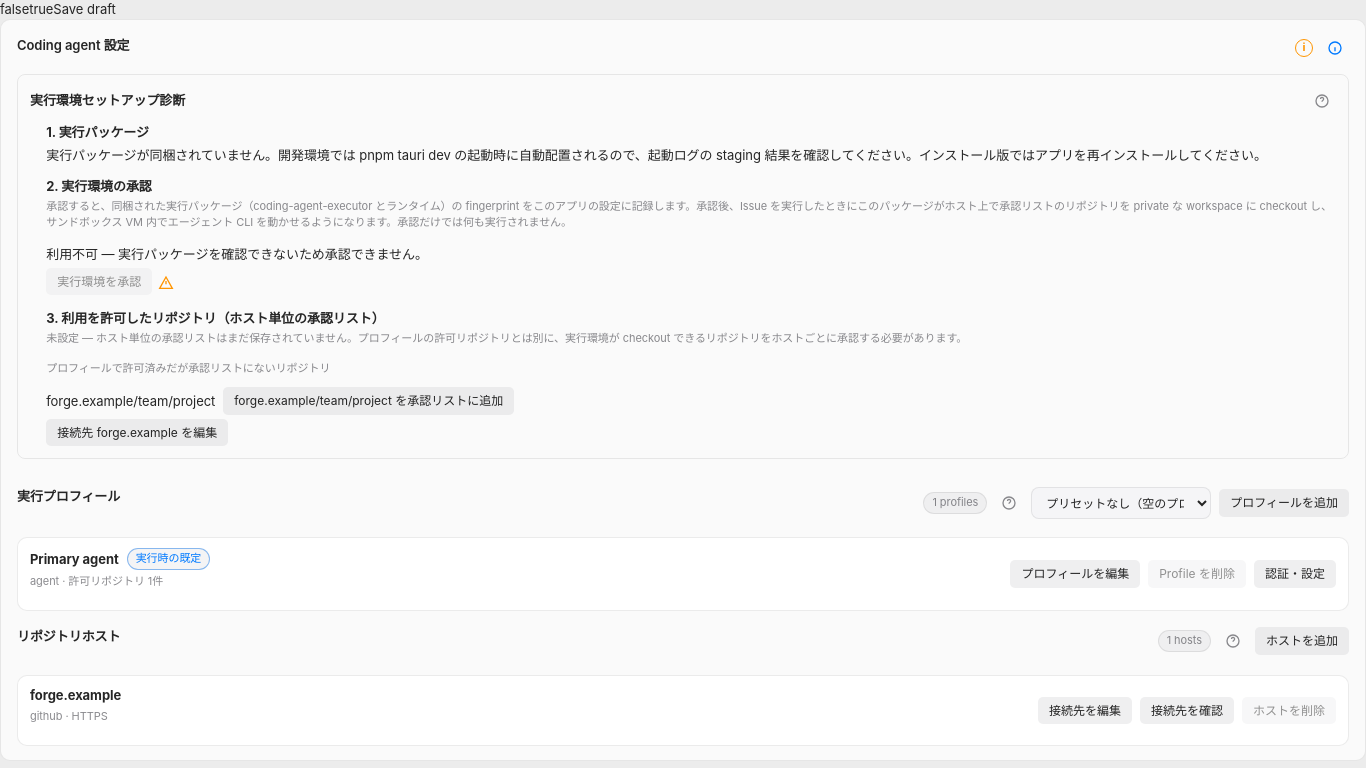
Coding agent settings list and dialogs › keeps profile edits local until the dialog is confirmed
The image size is (1366, 768).
Click the button "プロフィールを編集".
click(1075, 574)  # box [1010,560,1140,588]
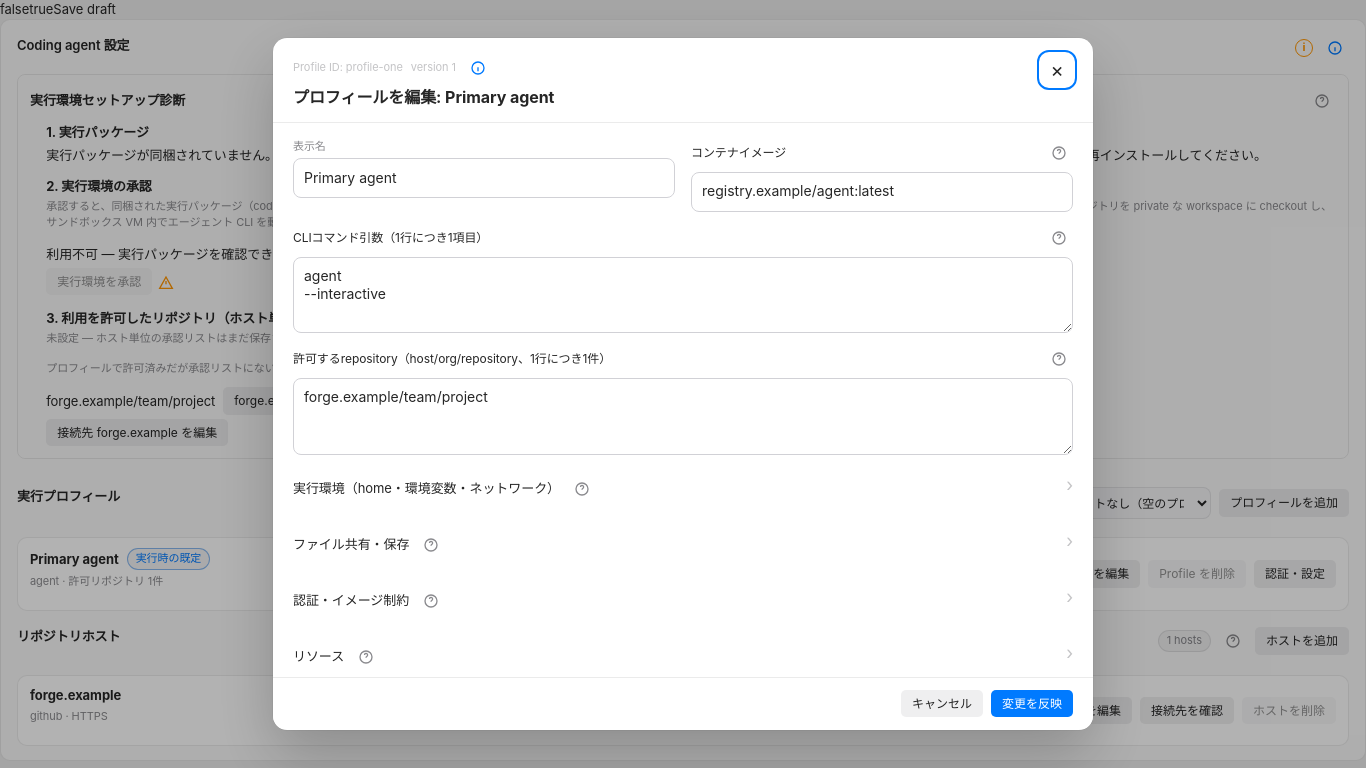
Replace the text in the field labelled "表示名" with "Edited agent" at (484,178), box [293,158,675,198]
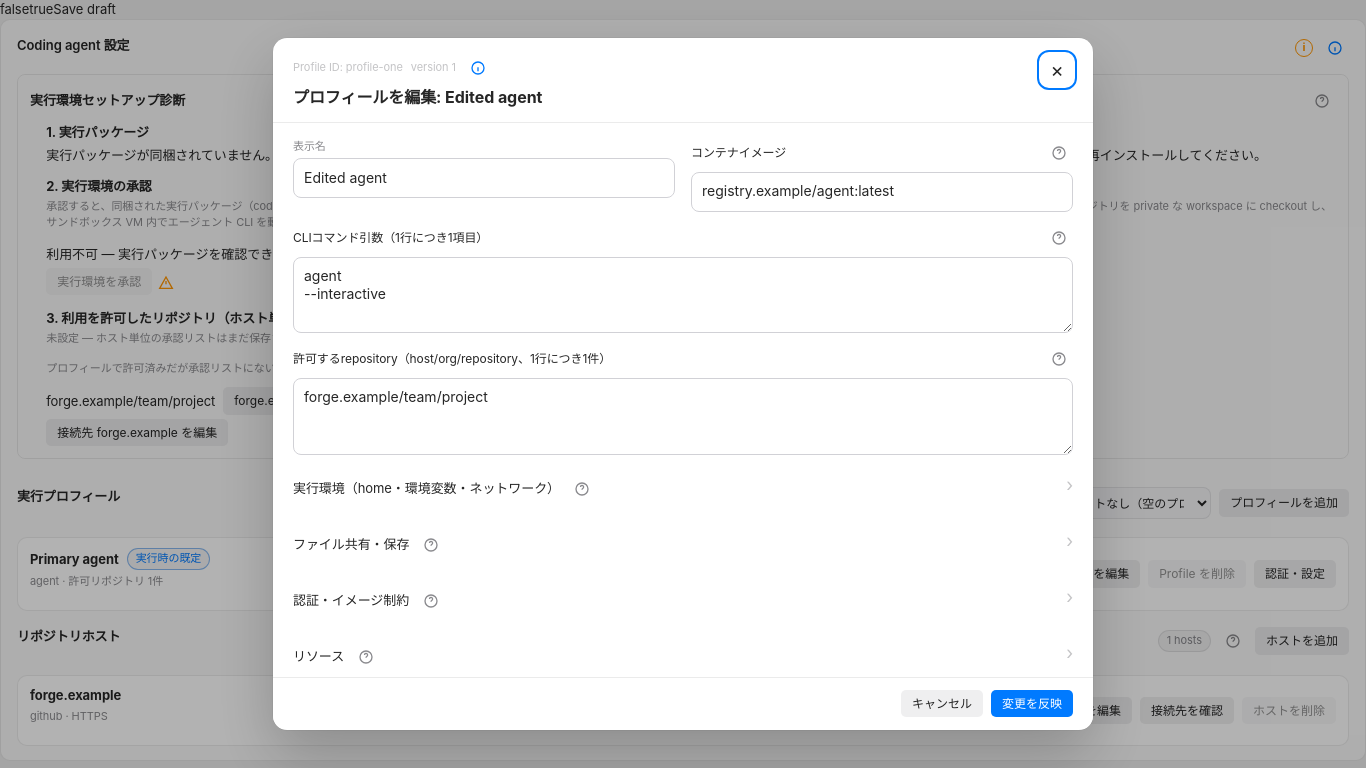
Expected: the text with test id "editor-dirty" reads "false", [0,1,29,17]
Click the button "変更を反映".
click(1032, 704)  # box [991,690,1073,718]
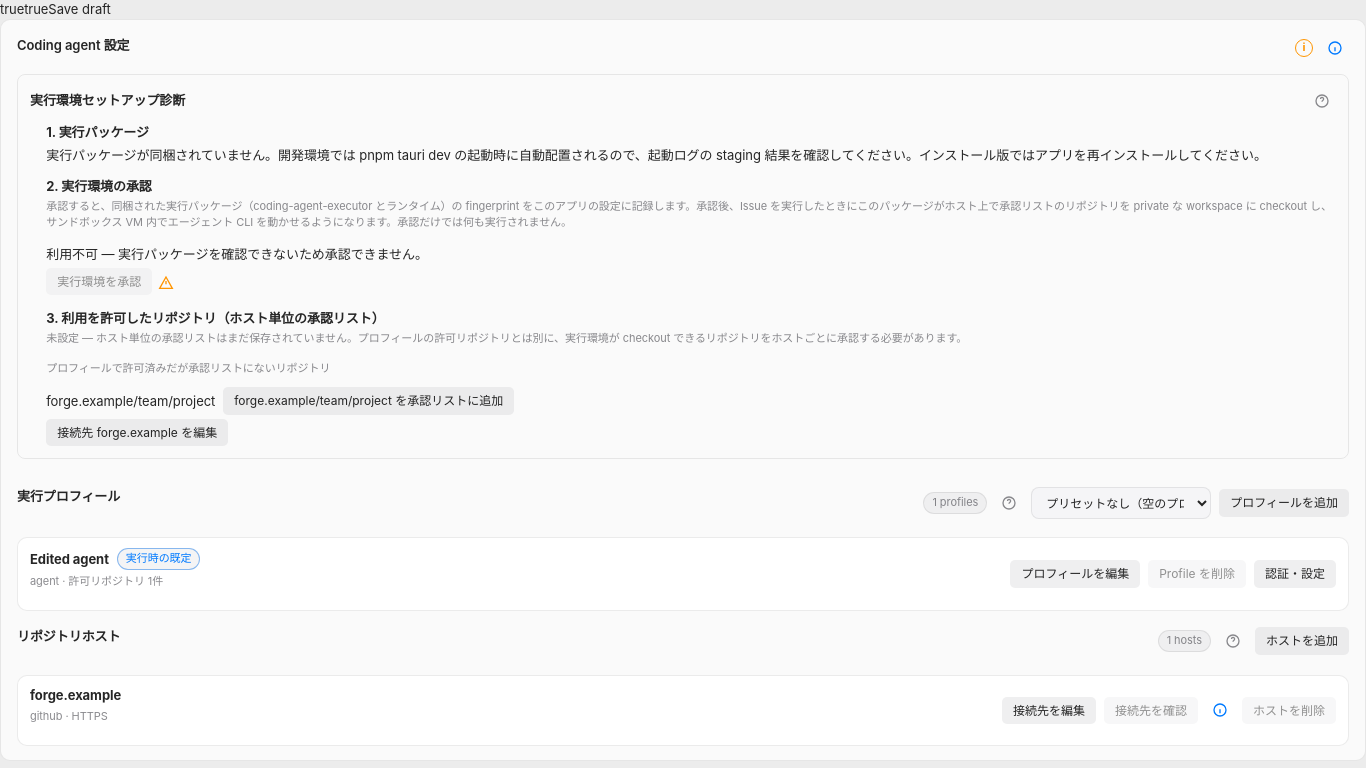
Expected: the text "Edited agent" is shown, [30,550,109,568]
Expected: the text with test id "editor-dirty" reads "true", [0,1,24,17]
